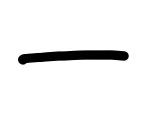minus: (17, 50, 126, 63)
